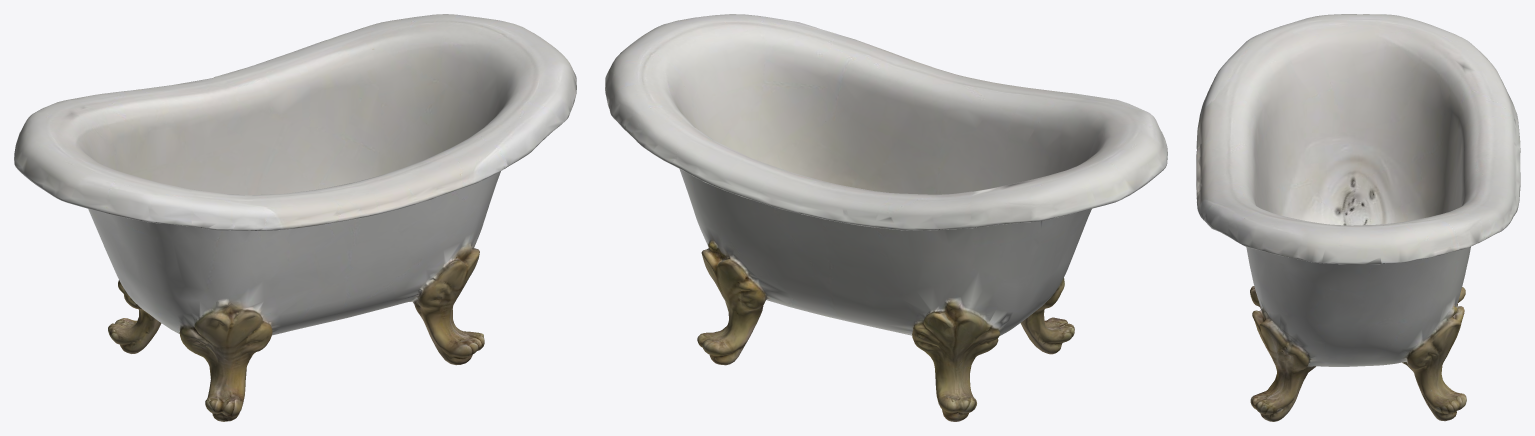
File: tub.glb
3 renders of one model, left to right at view 1: azimuth 30°, elevation 25°; view 2: azimuth 150°, elevation 25°; view 3: azimuth 270°, elevation 25°, orthographic. The views are drawn at different scales.
Size of the model in its own units: 1 by 0.4797 by 0.5796.
Materials: 1 (1 with a texture image).
